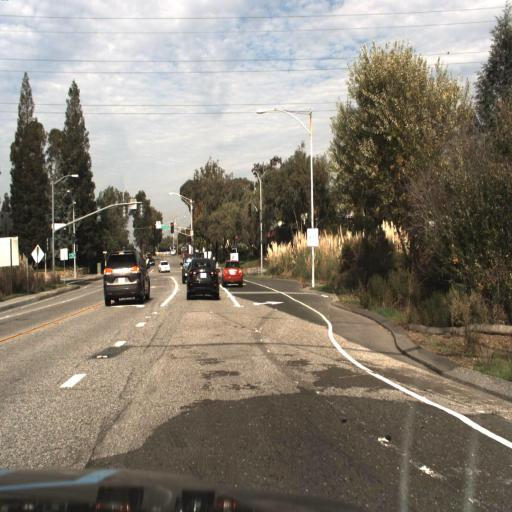car: (98, 249, 152, 310), (185, 256, 221, 304), (176, 250, 192, 286), (222, 259, 242, 287), (159, 260, 170, 274)
